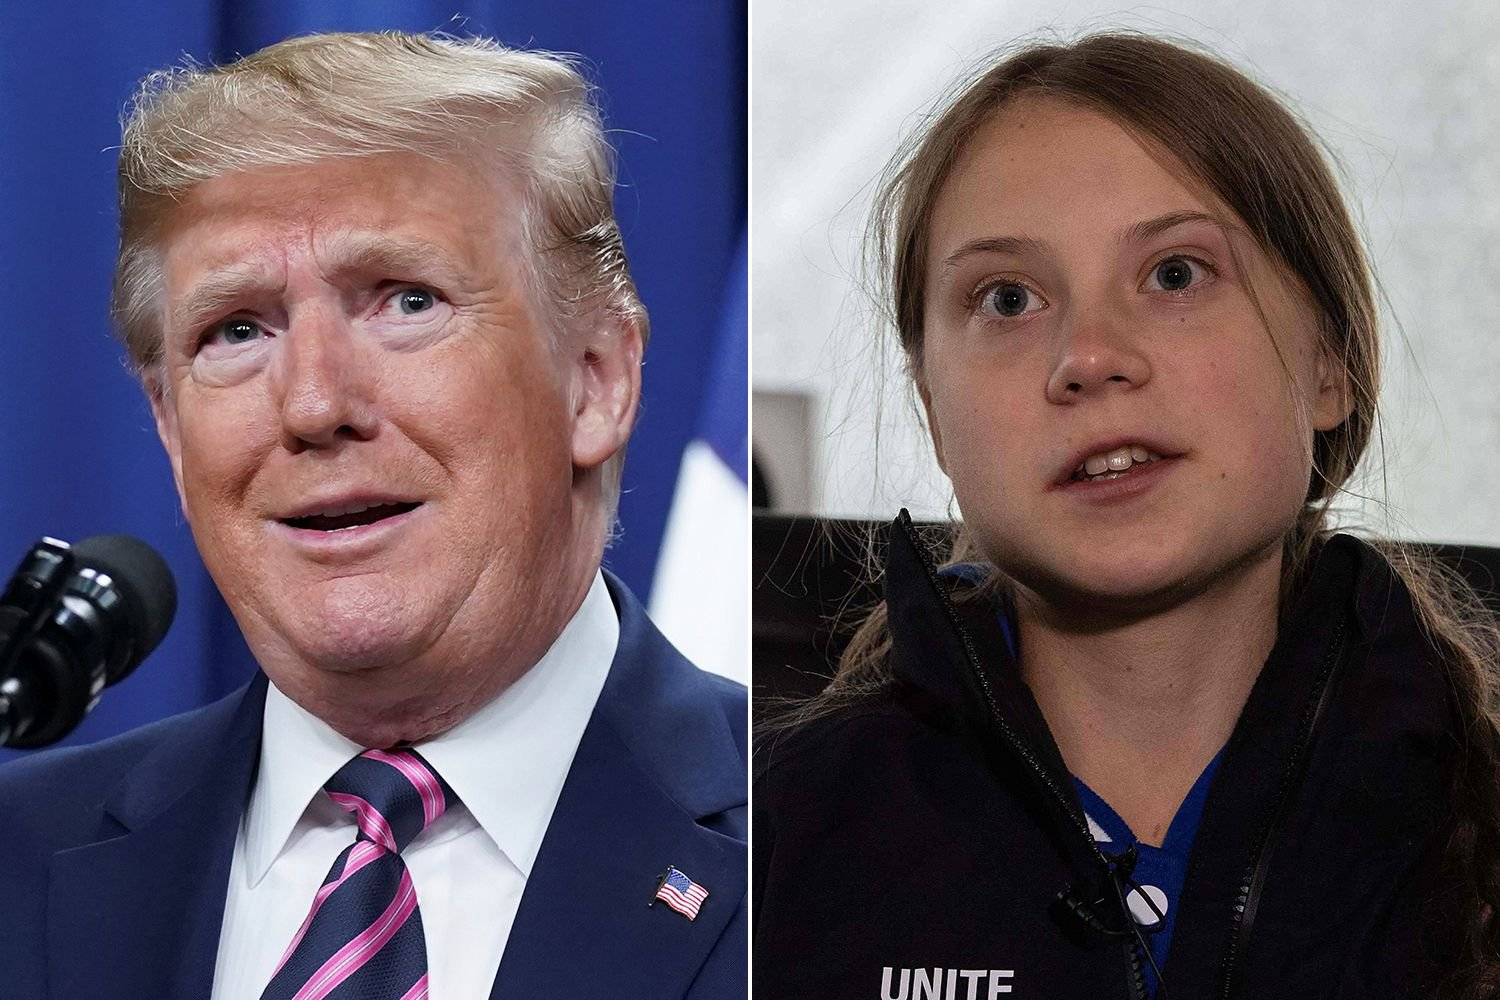noMask: (87, 16, 695, 777), (861, 29, 1406, 598)
